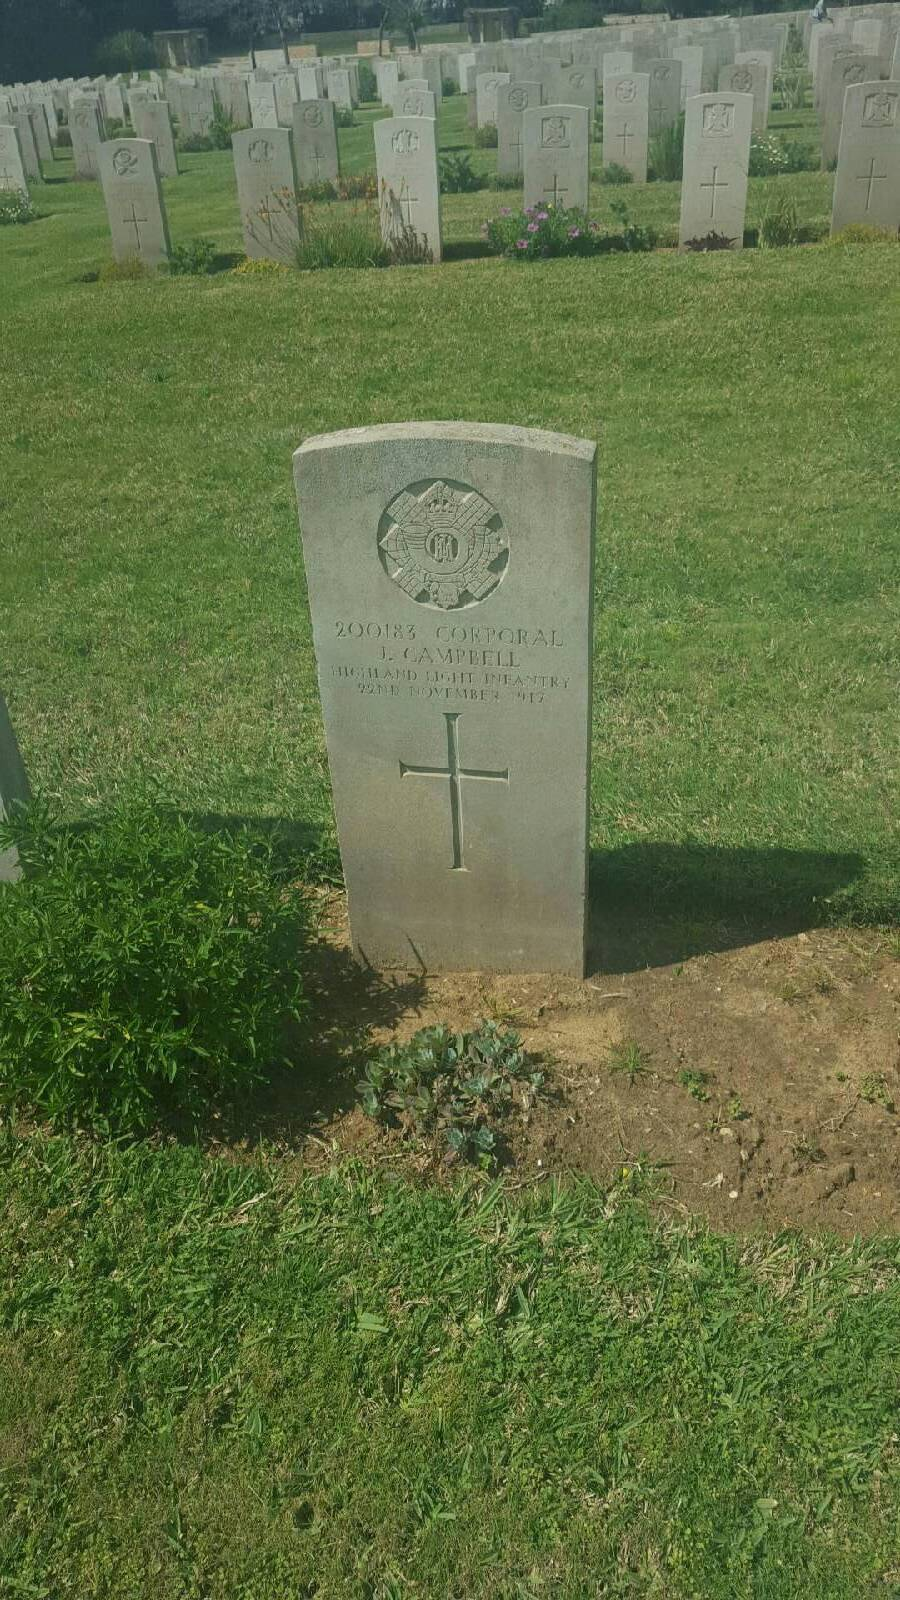military: (287, 415, 595, 977)
